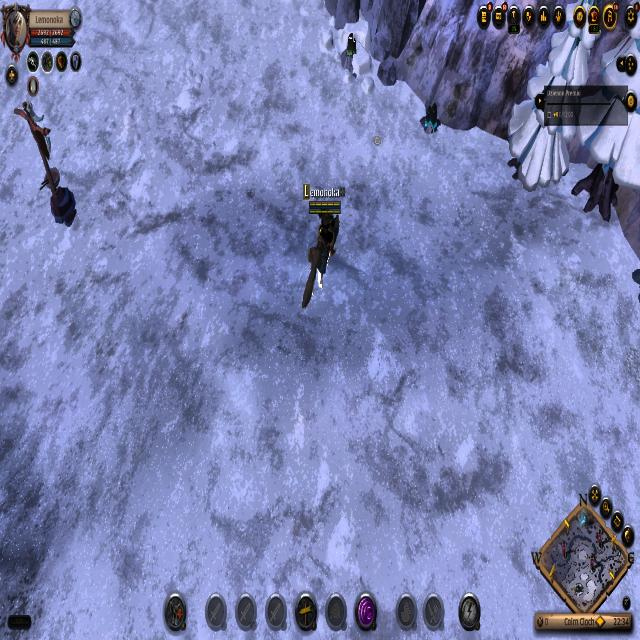ore tier 3: (340, 30, 359, 76)
ore tier 4: (419, 98, 440, 140)
